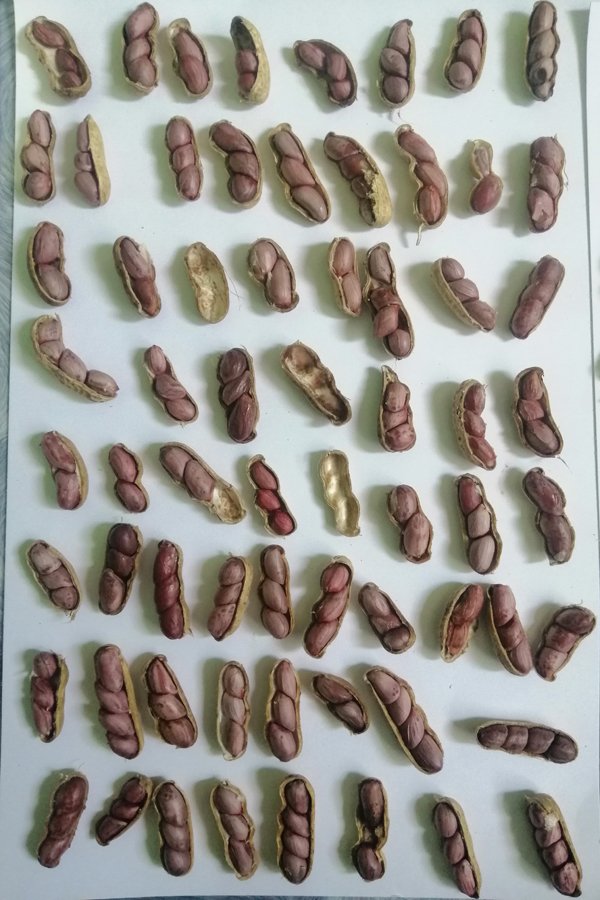Empty: (279, 340, 356, 431), (317, 443, 368, 543), (182, 237, 233, 328)
Four: (364, 661, 450, 778), (24, 312, 121, 402), (316, 127, 396, 232), (521, 789, 586, 900), (362, 242, 423, 359), (90, 640, 144, 766), (471, 716, 583, 769), (272, 771, 323, 885), (519, 2, 571, 100)
Three: (267, 120, 333, 227), (18, 13, 98, 100), (427, 794, 488, 900), (392, 122, 452, 228), (430, 251, 498, 340), (453, 473, 508, 581), (534, 602, 599, 692), (33, 771, 92, 869), (143, 652, 199, 752), (207, 778, 260, 883), (304, 553, 356, 660), (374, 364, 428, 467), (67, 110, 120, 213), (207, 116, 264, 211), (287, 33, 360, 107), (512, 364, 568, 460), (215, 342, 265, 449), (19, 535, 85, 615), (144, 535, 194, 639), (89, 522, 144, 616), (508, 253, 568, 339), (483, 580, 534, 680), (449, 377, 503, 470), (150, 777, 199, 879), (139, 342, 197, 428), (355, 581, 420, 655), (94, 772, 155, 850), (440, 5, 492, 96), (377, 13, 424, 113), (21, 650, 71, 743), (524, 129, 569, 230), (264, 657, 306, 764), (116, 1, 163, 94), (18, 105, 61, 206), (157, 111, 204, 203), (249, 452, 300, 535), (207, 555, 254, 643), (213, 659, 252, 762), (257, 542, 297, 640)
Two: (155, 441, 251, 530), (517, 462, 576, 569), (111, 229, 168, 327), (220, 10, 275, 107), (348, 776, 394, 886), (246, 235, 306, 316), (163, 14, 216, 103), (34, 424, 86, 514), (381, 481, 434, 569), (24, 219, 75, 310), (458, 135, 508, 219), (436, 581, 486, 663), (310, 671, 370, 737), (324, 233, 368, 316), (102, 439, 149, 513)
